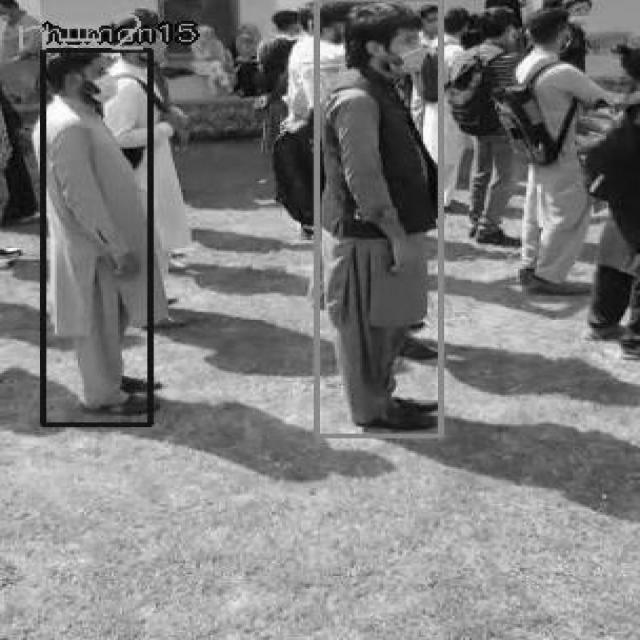person: (314, 0, 441, 435), (39, 48, 150, 424)
